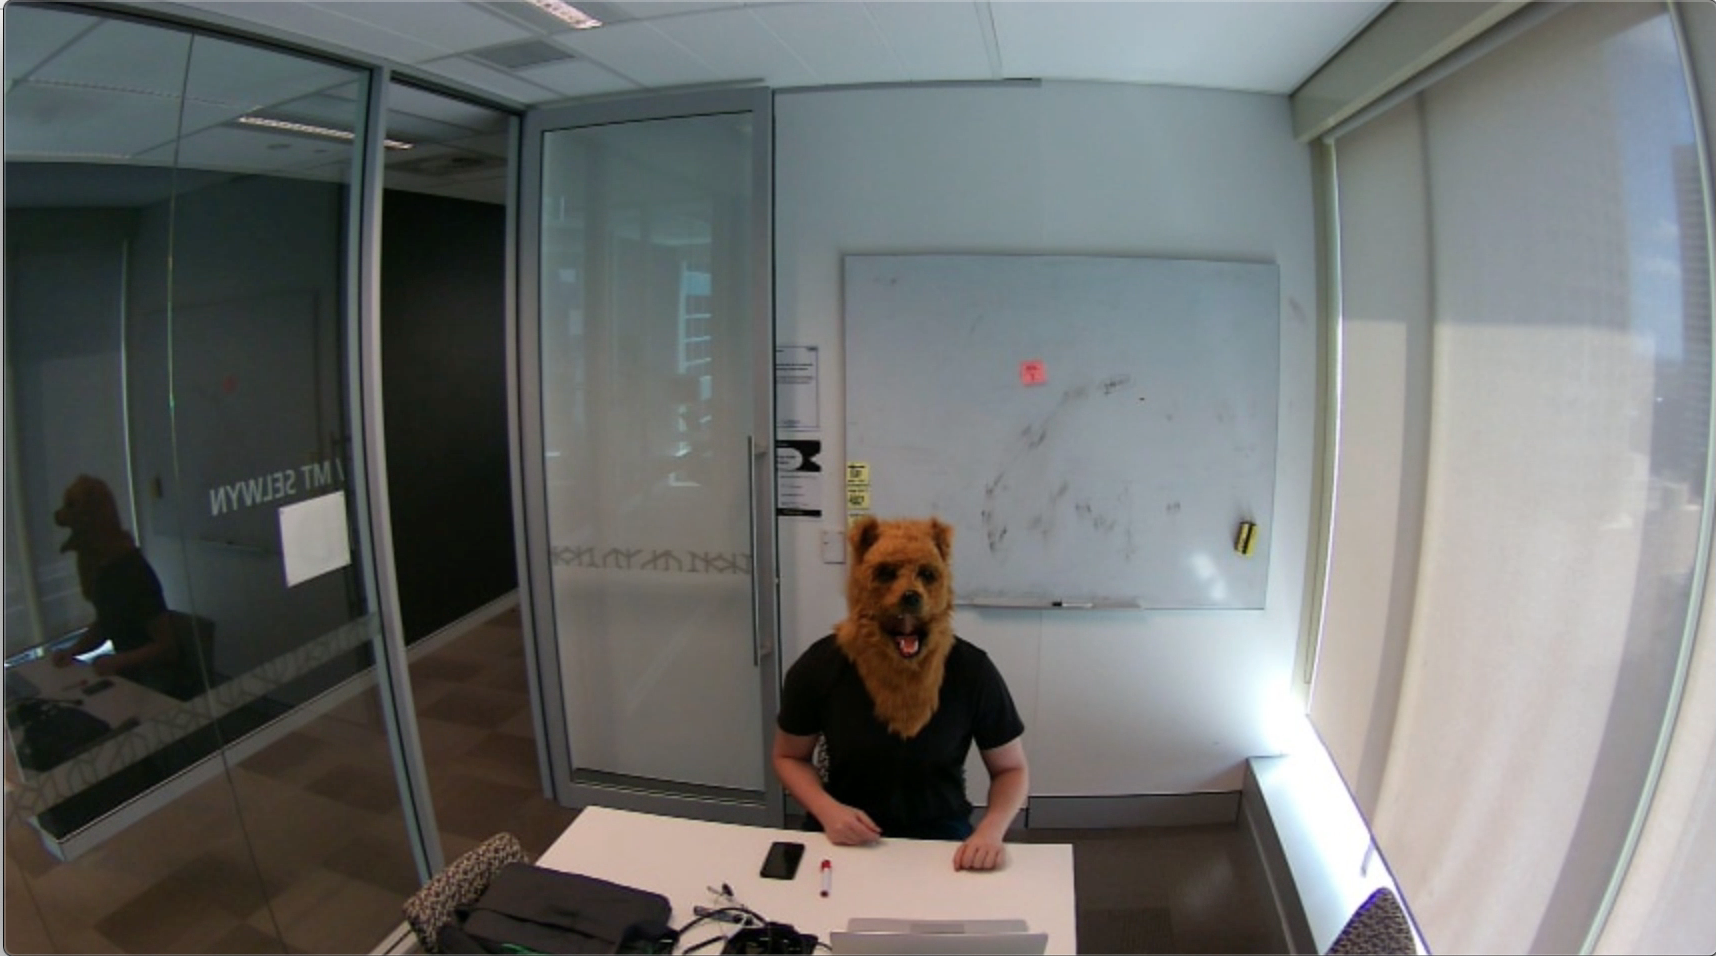Bear: (843, 511, 964, 678)
